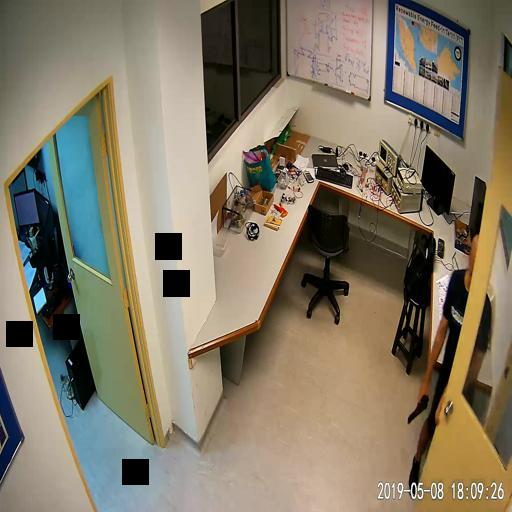Handgun: (406, 386, 428, 423)
